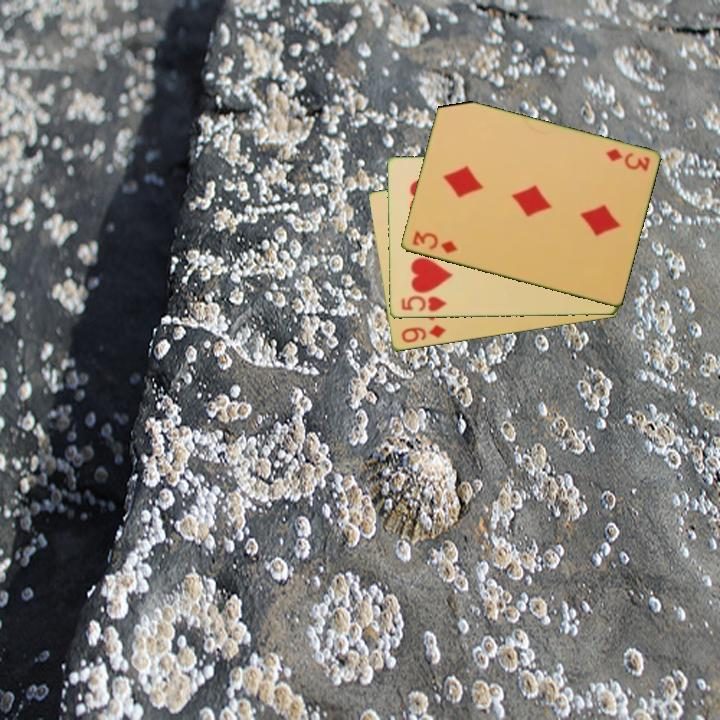3d: (408, 228, 460, 257), (602, 145, 652, 174)
5h: (398, 292, 449, 314)
9d: (398, 322, 449, 346)
